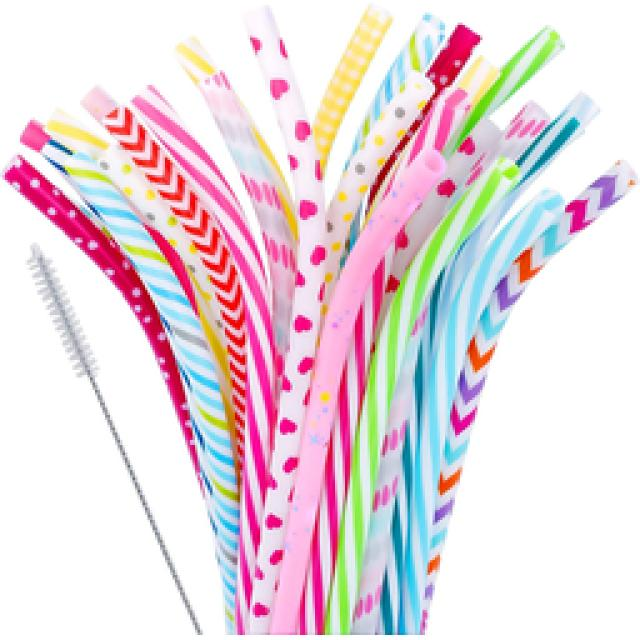plastic: (0, 0, 638, 635), (22, 240, 202, 635)
